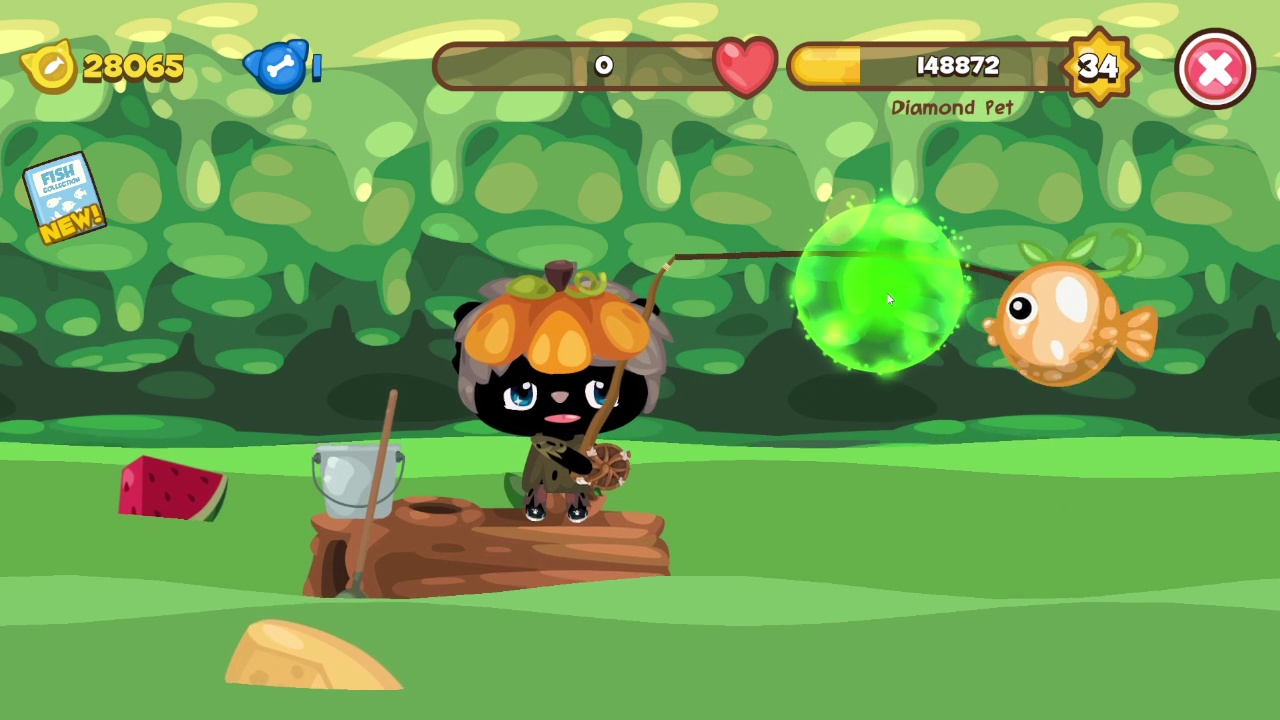point: (790, 197, 969, 375)
